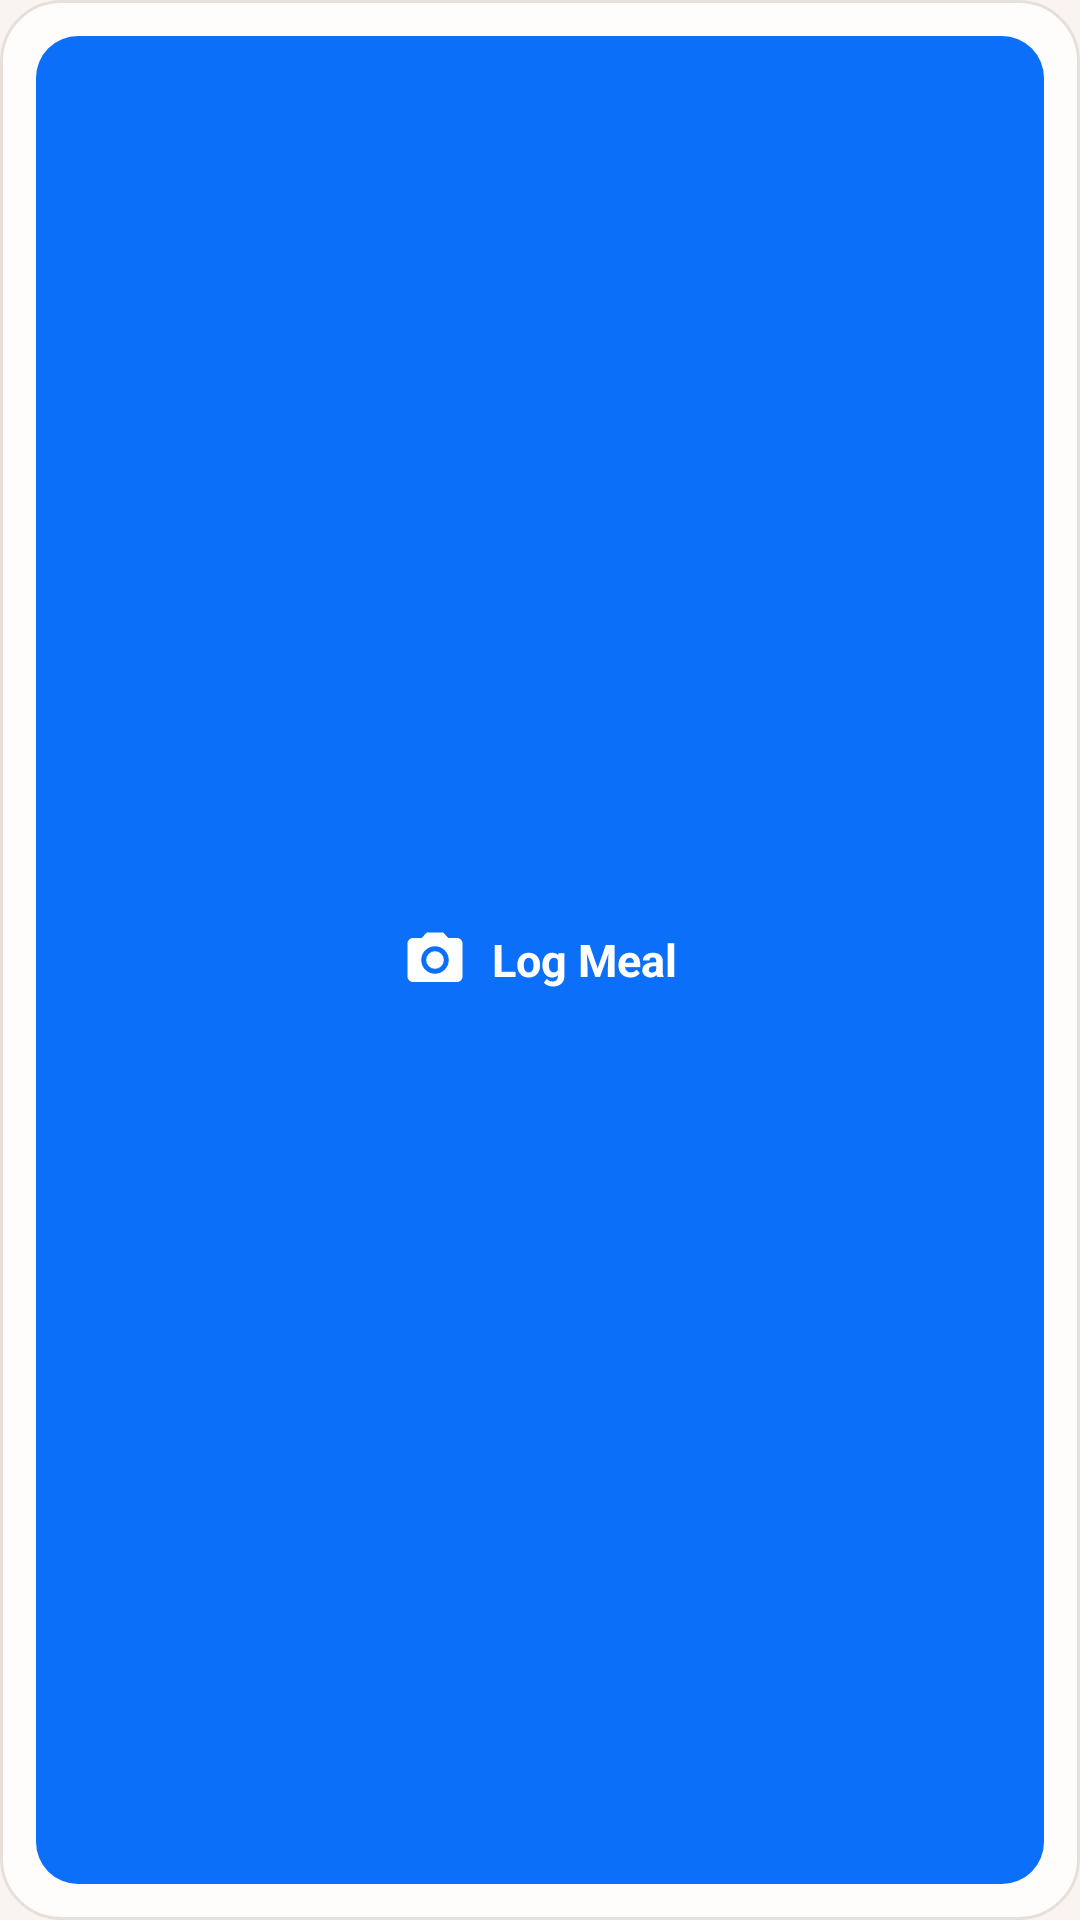

Named icons in this screenshot (1080w x 1920h) and their bounding boxes, [x1=x1, y1=y1, x2=x2, y2=y2]:
widget camera: [x1=407, y1=932, x2=463, y2=982]
